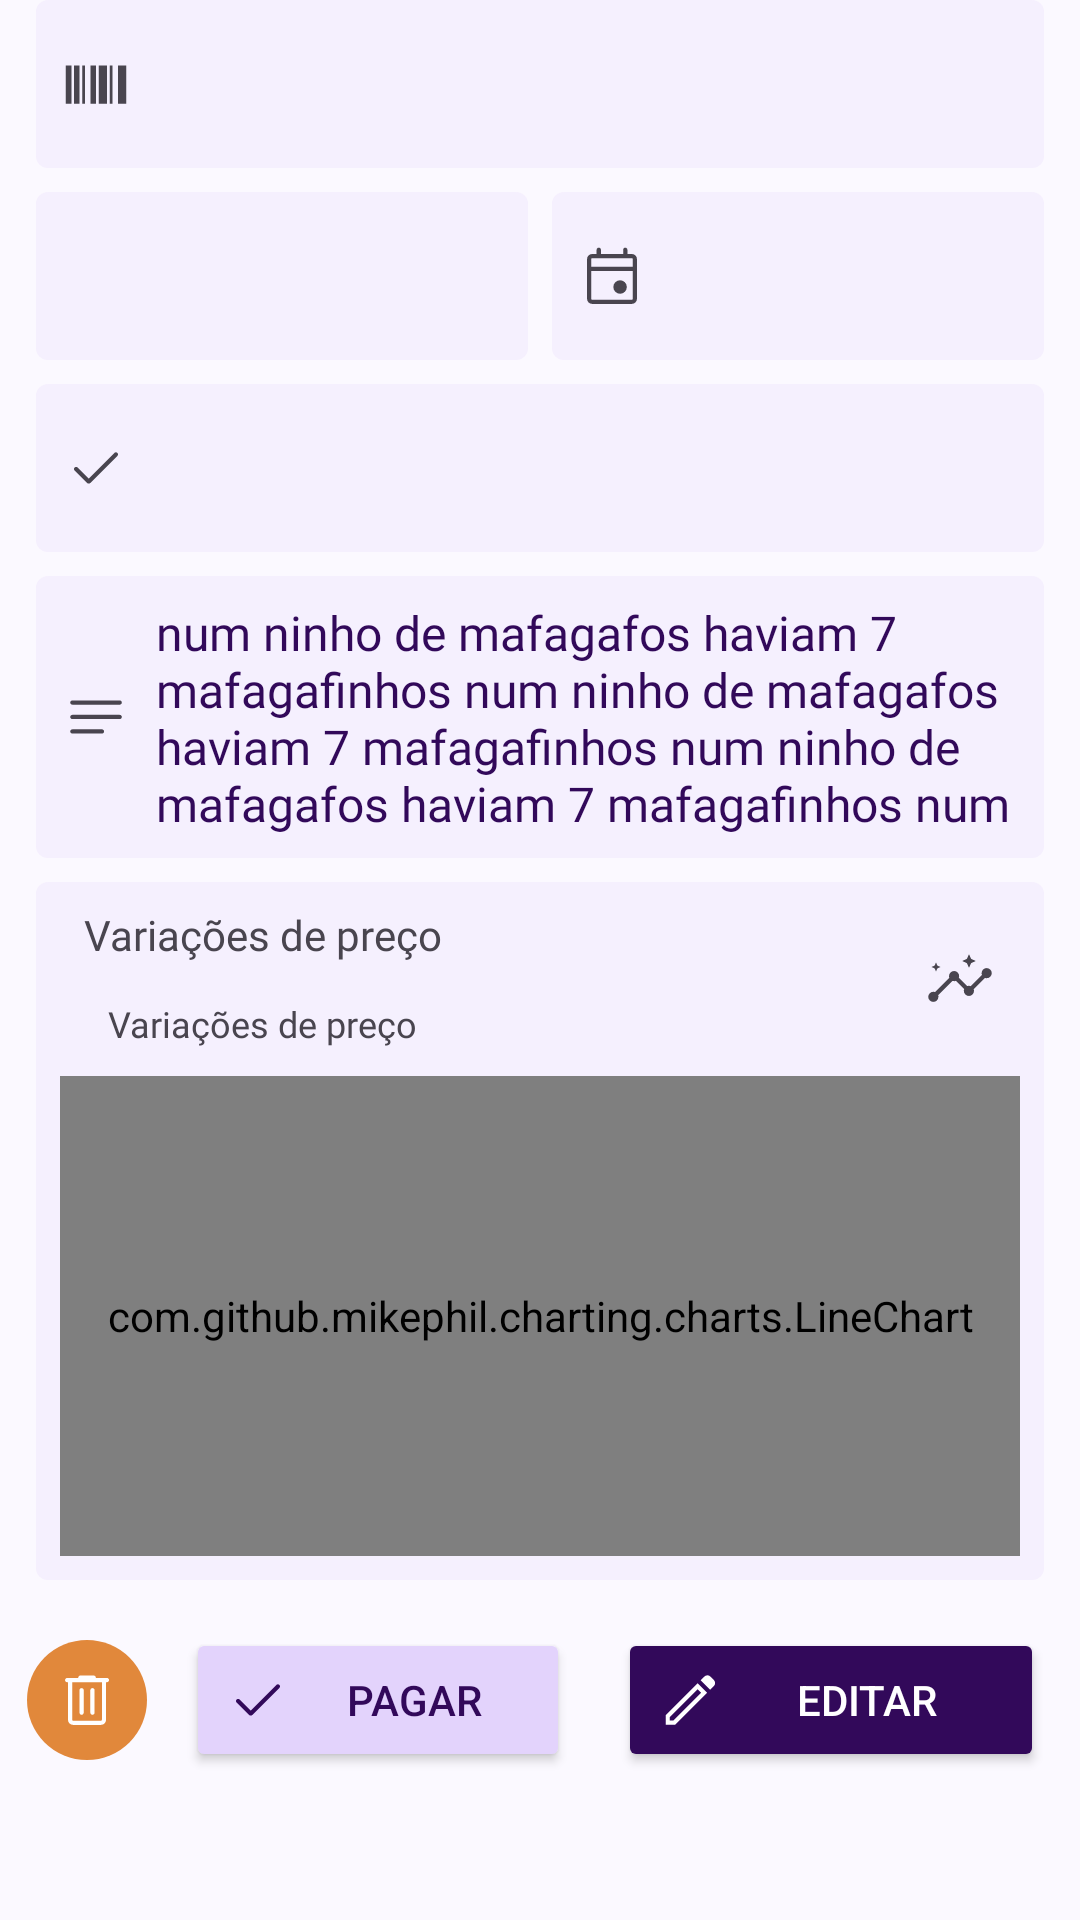

Named icons in this screenshot (1080w x 1920h) and their bounding boxes, (x1, y1, x2, y2):
insight: (928, 955, 992, 1002)
remover: (27, 1640, 147, 1760)
